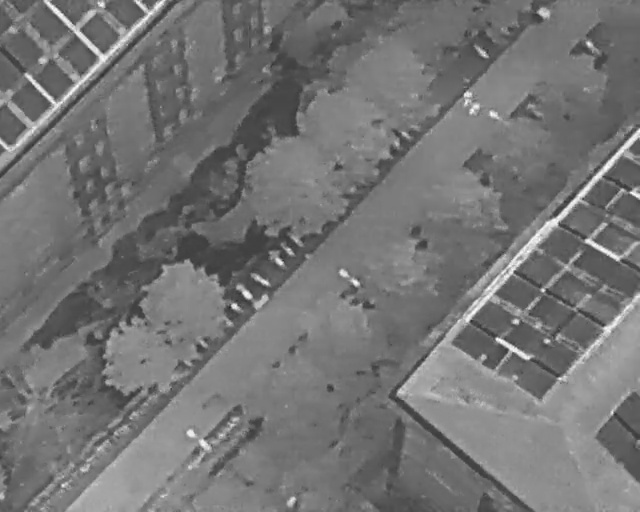Bicycle: (244, 268, 275, 289), (234, 281, 258, 305), (221, 294, 246, 316), (263, 246, 288, 268), (470, 40, 492, 64), (273, 240, 297, 261)
Person: (471, 98, 479, 115), (350, 276, 361, 287), (186, 428, 196, 440), (465, 90, 472, 106), (338, 268, 348, 278)
